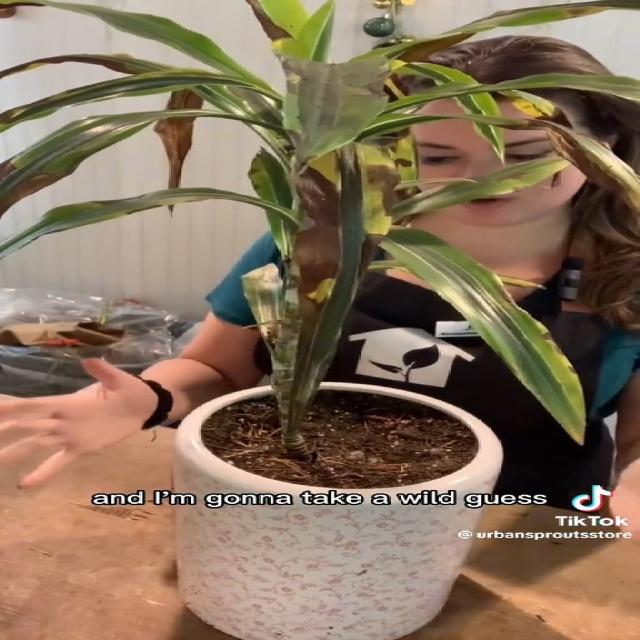lisc_suchy: (286, 139, 401, 434), (0, 108, 236, 221), (0, 187, 304, 261), (454, 113, 640, 219), (344, 0, 640, 62), (271, 53, 390, 185), (0, 68, 194, 135), (394, 158, 571, 220), (0, 0, 191, 42), (154, 89, 204, 218), (0, 54, 182, 83), (239, 265, 288, 360), (244, 0, 314, 60), (496, 90, 573, 130), (388, 125, 418, 226), (248, 148, 295, 210)
roslina_sucha: (0, 0, 640, 445)
